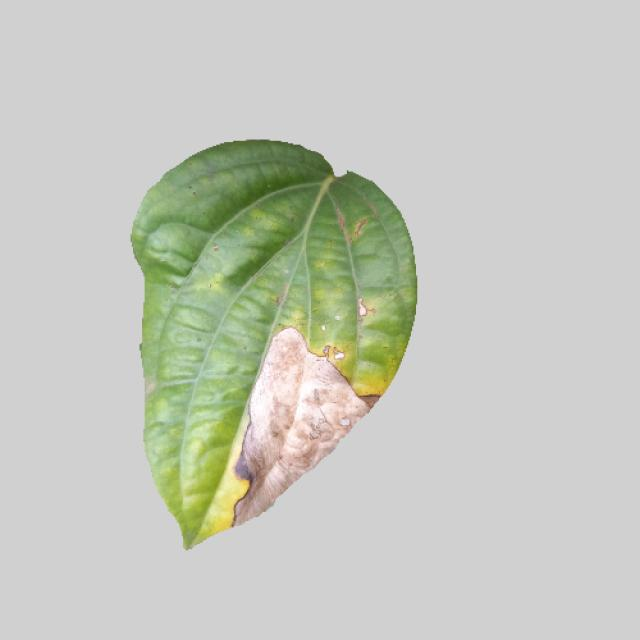leaf-blight: (123, 143, 422, 548)
